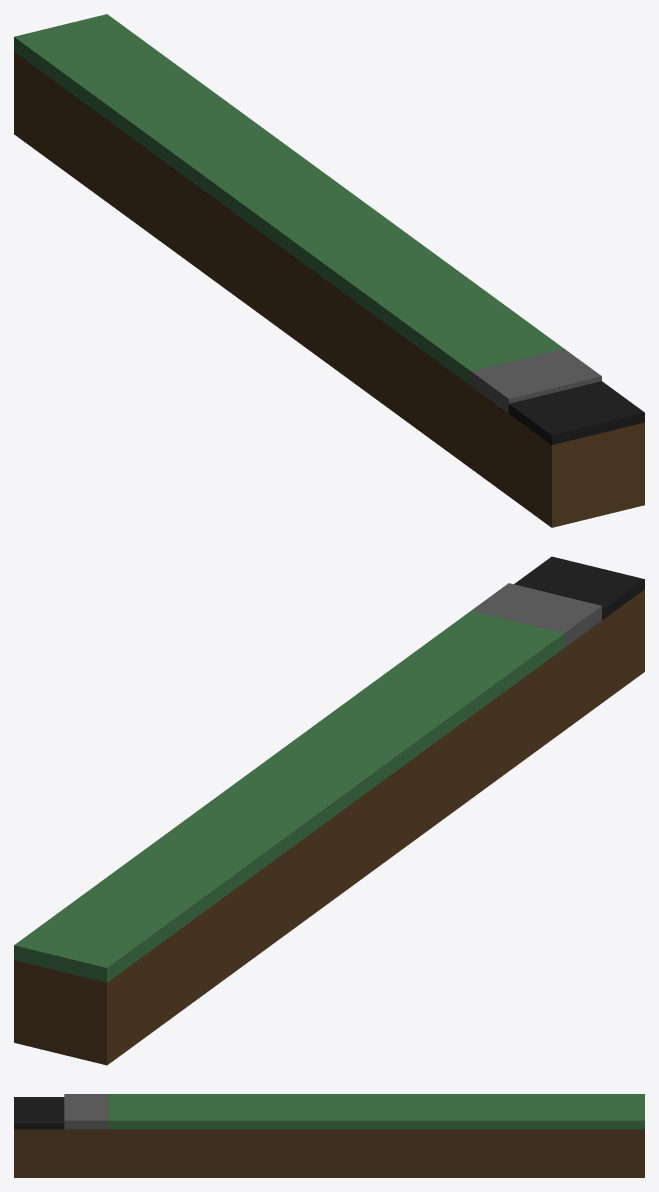
File: Layout_B.fbx
The picture shows the model from 3 angles, top to bottom: view 1: azimuth 30°, elevation 25°; view 2: azimuth 150°, elevation 25°; view 3: azimuth 270°, elevation 25°; orthographic projection. The views are drawn at different scales.
Visible parts, largest first — view 1: Cube.012; view 2: Cube.012; view 3: Cube.012.
Boxes of the visible parts, left/top/right/bottom form: Cube.012: left=14, top=14, right=644, bottom=527; Cube.012: left=14, top=556, right=644, bottom=1065; Cube.012: left=14, top=1094, right=644, bottom=1177.
Size of the model in its own units: 200 by 200 by 2000.
